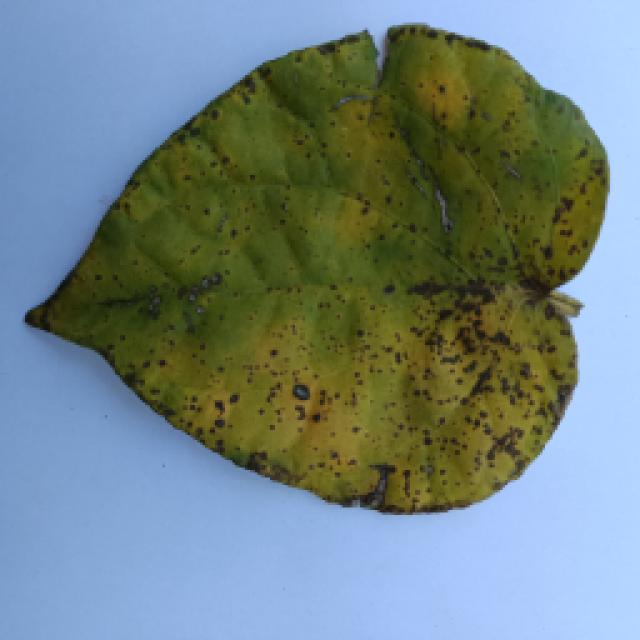slow-decline: (8, 35, 602, 523)
